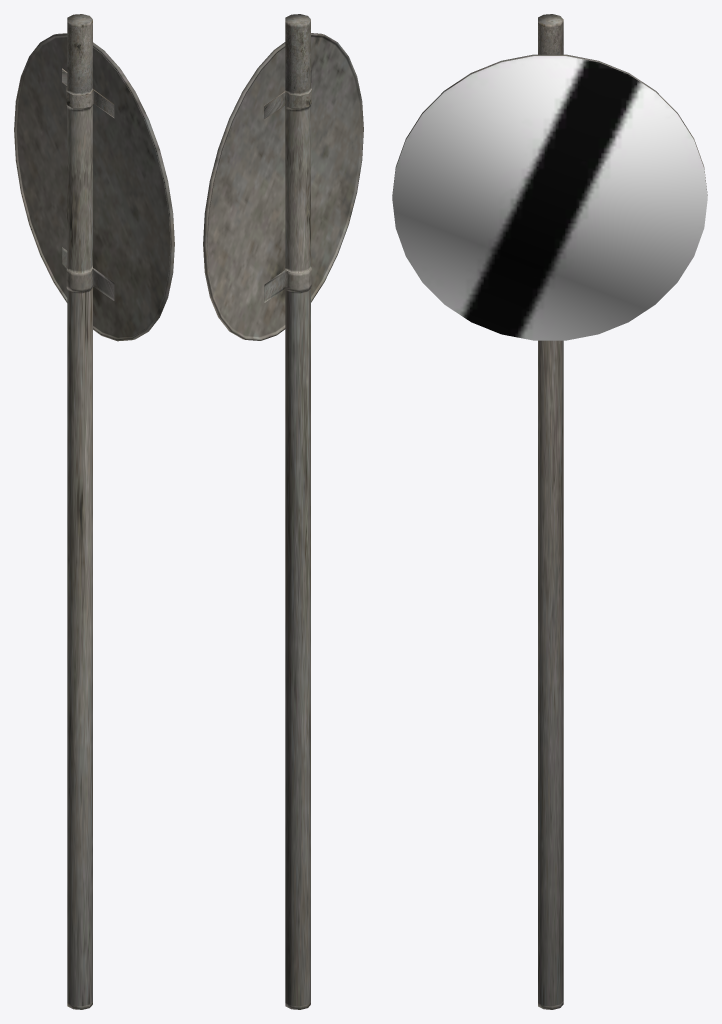
Rendered from znakiOgienNaTloki.dae.
3 renders of one model, left to right at view 1: azimuth 30°, elevation 25°; view 2: azimuth 150°, elevation 25°; view 3: azimuth 270°, elevation 25°, orthographic.
Parts seen in each view (by area): view 1: znakOgienNaTloki_a65; view 2: znakOgienNaTloki_a65; view 3: znakOgienNaTloki_a65.
Boxes of the visible parts, bbox=[...] form: znakOgienNaTloki_a65: bbox=[14, 14, 174, 1009]; znakOgienNaTloki_a65: bbox=[203, 14, 363, 1009]; znakOgienNaTloki_a65: bbox=[392, 14, 707, 1009].
Bounding box in the file's own units: 0.06 × 0.5807 × 2.
1 material, 1 textured.
